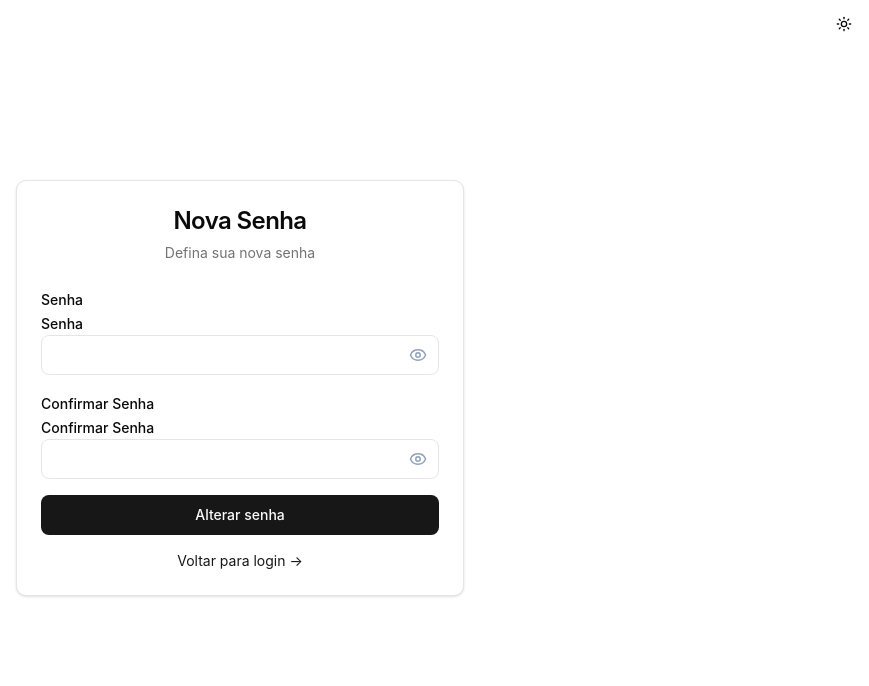
Test: ResetPasswordPage › blocks submit if passwords dont match
Type "Str0ng@Pass!" into the password field labelled "Senha" at {"x": 240, "y": 355}, box [41, 335, 439, 375]
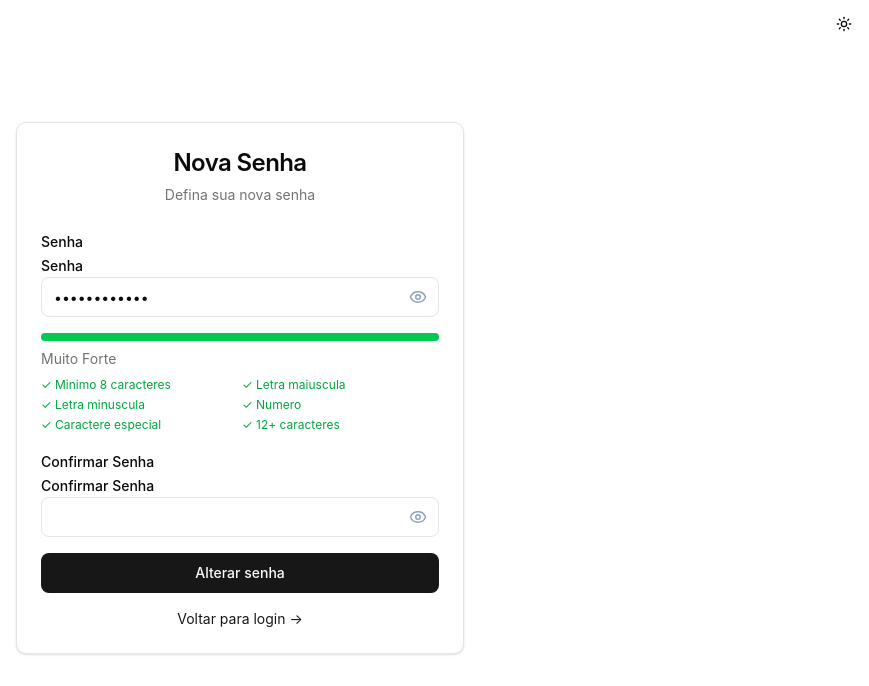
Type "Different@1" into the password field with id "confirmPassword" at {"x": 240, "y": 517}, box [41, 497, 439, 537]
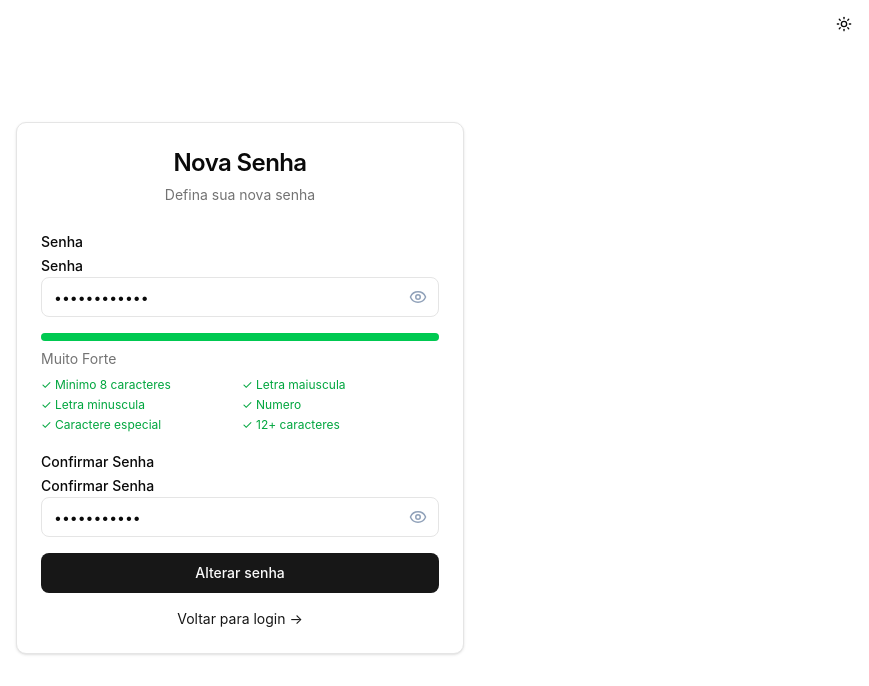
Click the button "Alterar senha" at {"x": 240, "y": 573}, box [41, 553, 439, 593]
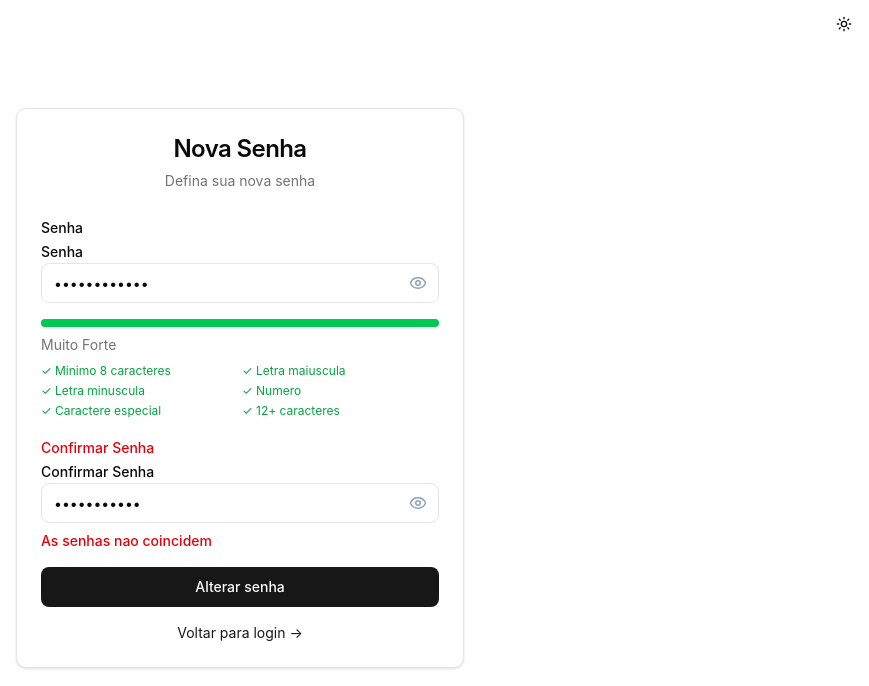
Expected: the text "As senhas nao coincidem" is shown, [41, 532, 212, 549]
